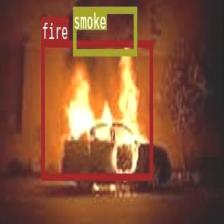fire: (40, 39, 152, 179)
smoke: (73, 5, 136, 55)
